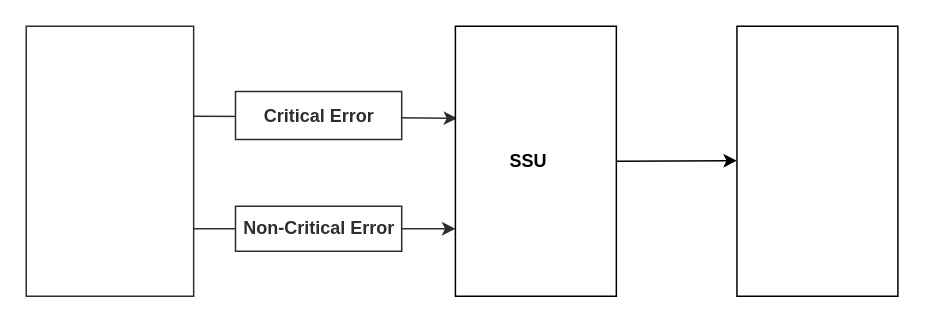
This 938x323 diagram has some shape labels left out. The centre of each missing label's shape, as x and y in pixels:
ESM: the point at 816,160
FMU #0 Root: the point at 109,160
